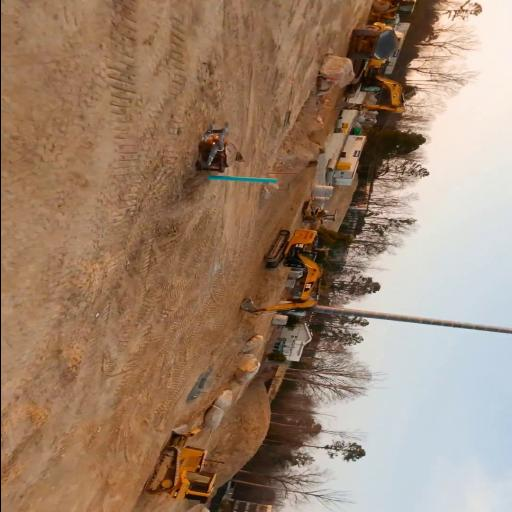uav: (197, 120, 231, 165)
